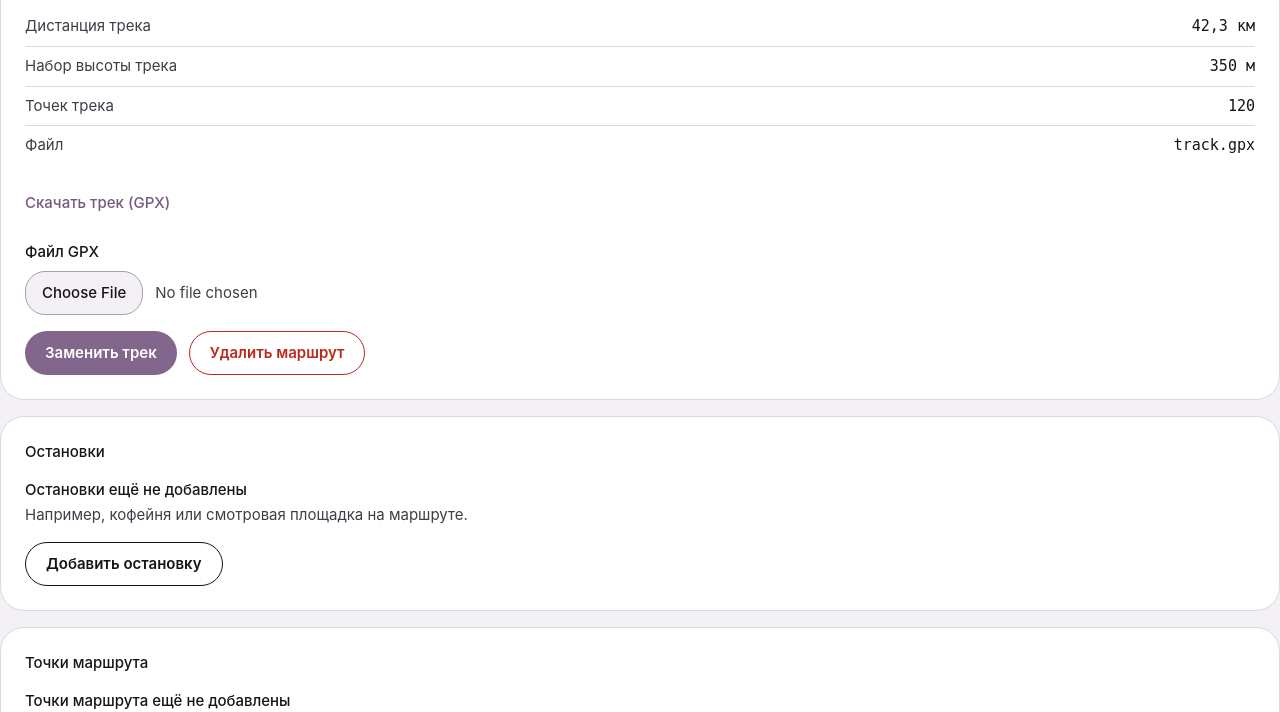
Test: RouteUploadForm › deletes the route after confirmation
(page scrolled)
Check: the text "track.gpx" is shown, box [1174,135,1255,157]
Click the button "Удалить маршрут" at {"x": 277, "y": 353}, box [189,331,366,375]
(page scrolled)
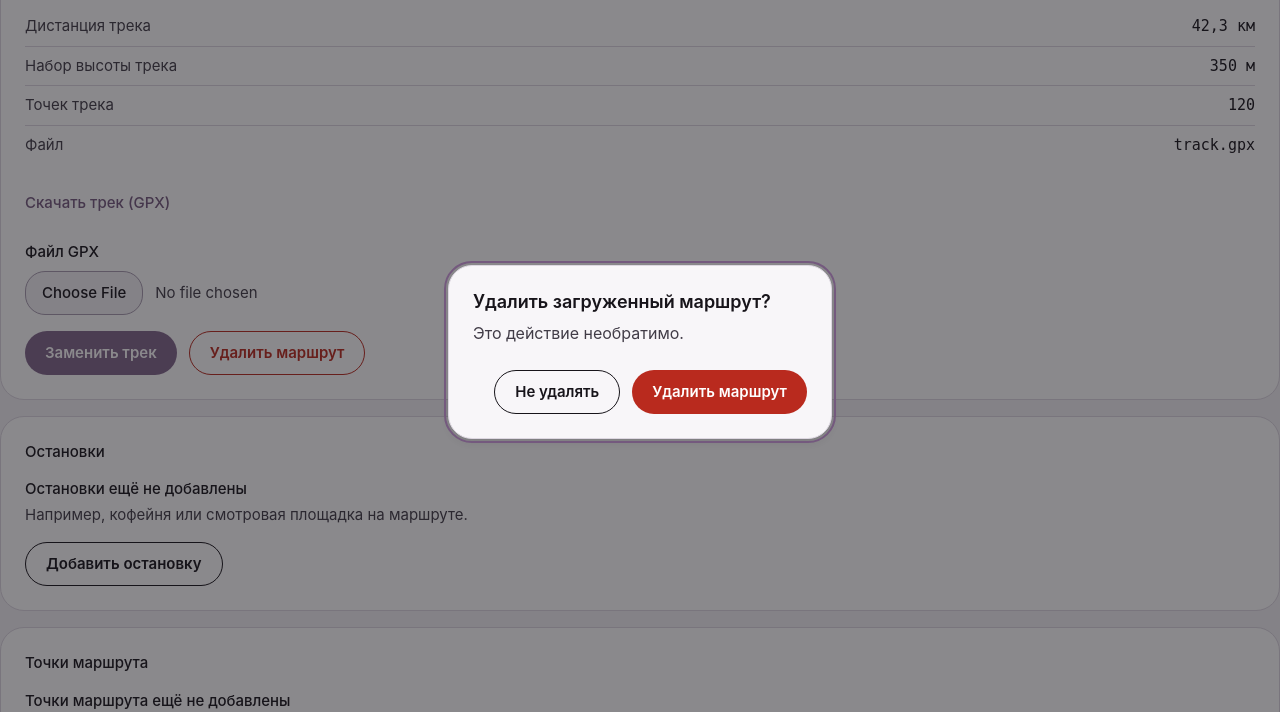
Click the button "Удалить маршрут" at {"x": 720, "y": 392}, box [632,370,807,414]
(page scrolled)
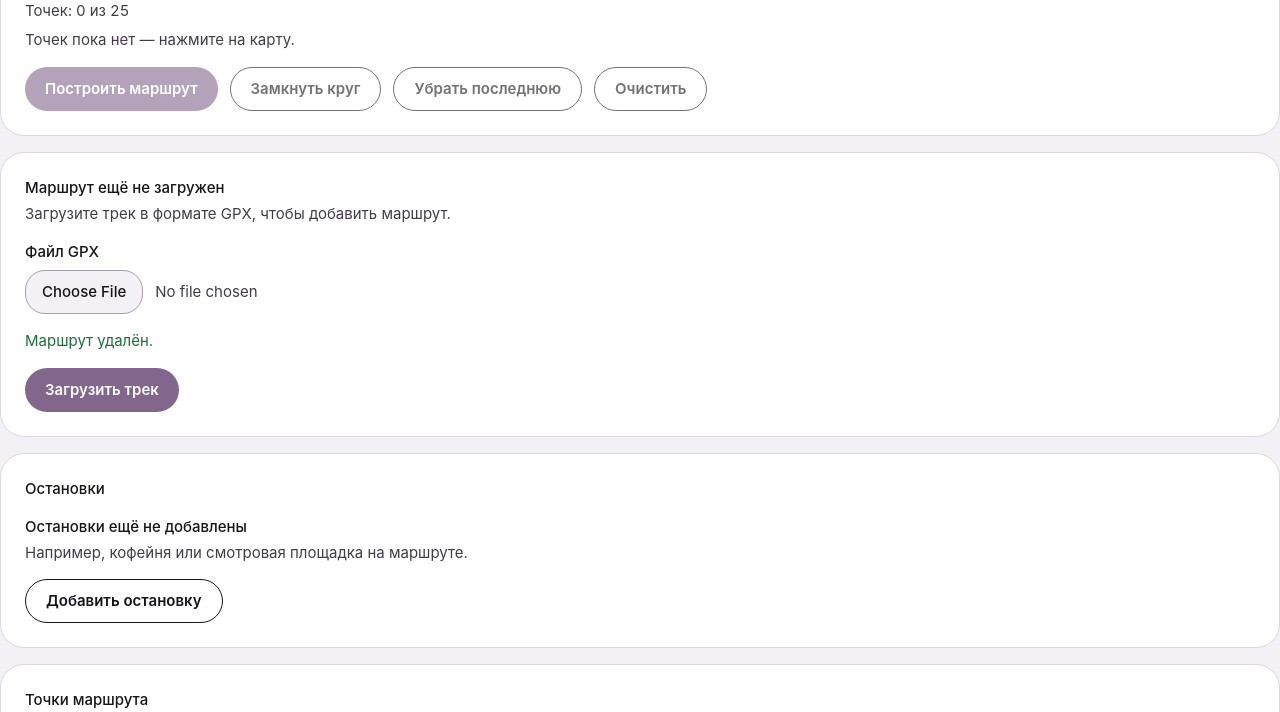
Check: the text "Маршрут удалён." is shown, box [25,331,153,350]
Check: the text "Маршрут ещё не загружен" is shown, box [25,178,224,197]
